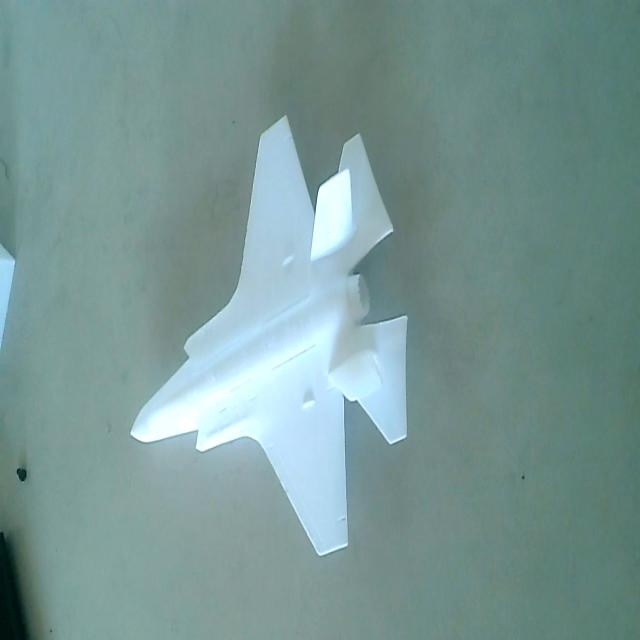Jet: (122, 112, 420, 563)
